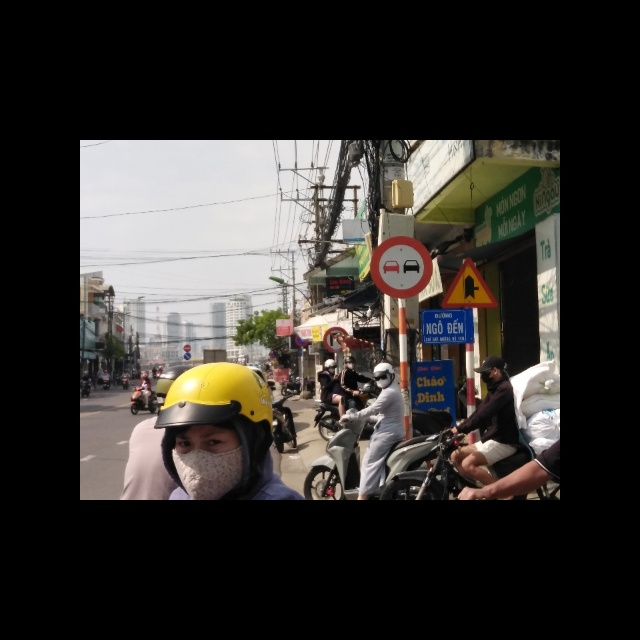Cấm vượt: (370, 235, 432, 298)
Giao nhau với đường không ưu tiên: (440, 257, 499, 310)
